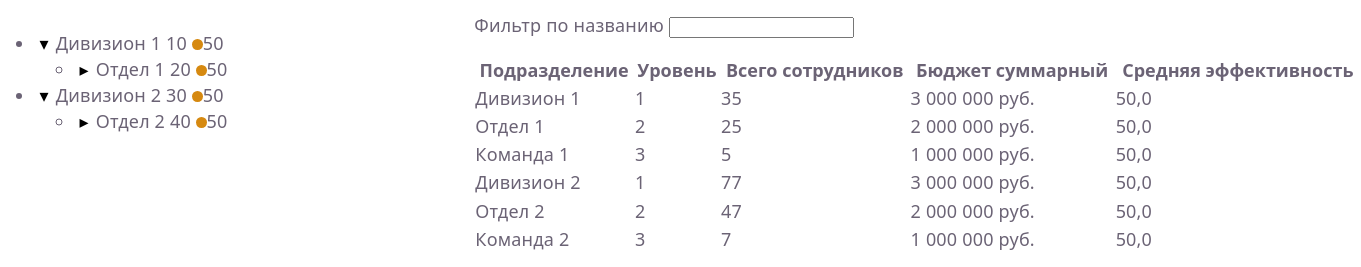
it: OrgTreeScreen: фоновая ревалидация › AC-001-15: раскрытие и сворачивание, сделанные пользователем, переживают обновление данных
Click the button named "Свернуть Дивизион 1" at (44, 43), box [40, 30, 48, 56]
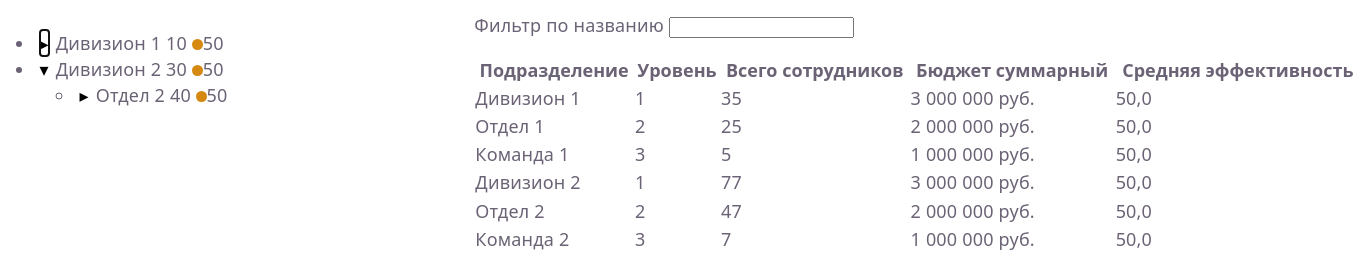
Click the button named "Развернуть Отдел 2" at (84, 95), box [80, 82, 88, 108]
Wait 5150 ms
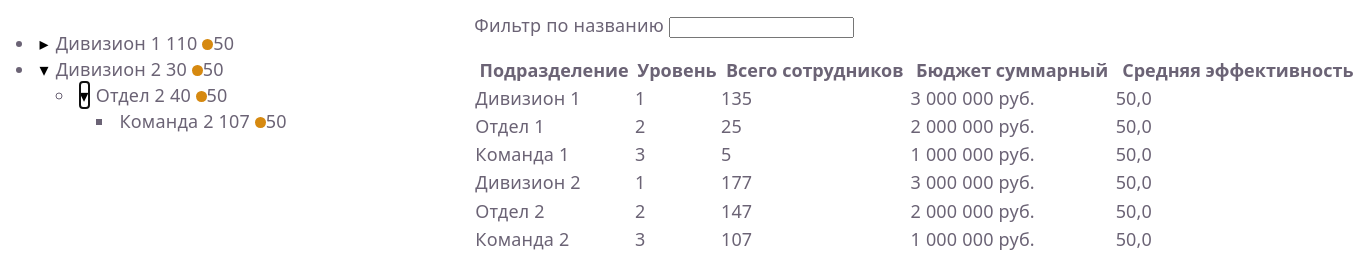
Expected: the button named "Развернуть Дивизион 1" is shown, [40, 30, 48, 56]
Expected: the text with test id "node-headcount" reads "110", [166, 31, 198, 55]
Expected: the button named "Свернуть Отдел 2" is shown, [80, 82, 88, 108]
